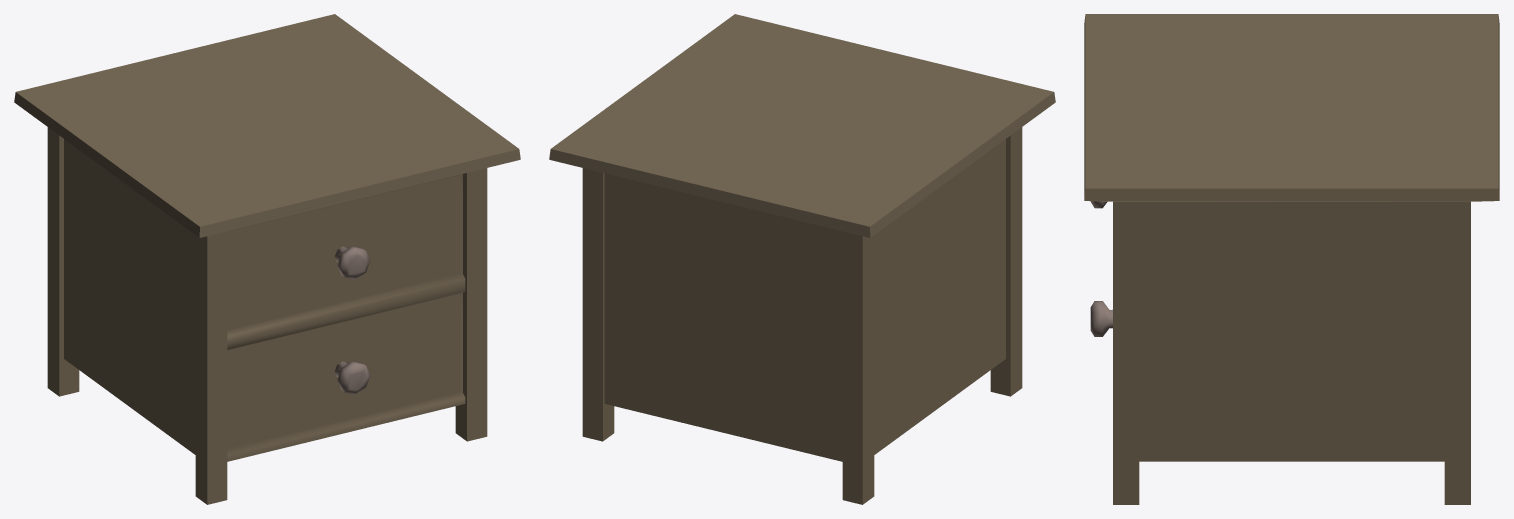
The model's file is night-stand.glb.
The picture shows the model from 3 angles, left to right: view 1: azimuth 30°, elevation 25°; view 2: azimuth 150°, elevation 25°; view 3: azimuth 270°, elevation 25°; orthographic projection. The views are drawn at different scales.
Visible parts, largest first — view 1: night-stand; view 2: night-stand; view 3: night-stand.
Boxes of the visible parts, x1=… form: night-stand: x1=14, y1=14, x2=520, y2=504; night-stand: x1=549, y1=14, x2=1055, y2=504; night-stand: x1=1084, y1=14, x2=1499, y2=504.
Bounding box in the file's own units: 0.5 × 0.4343 × 0.5.
